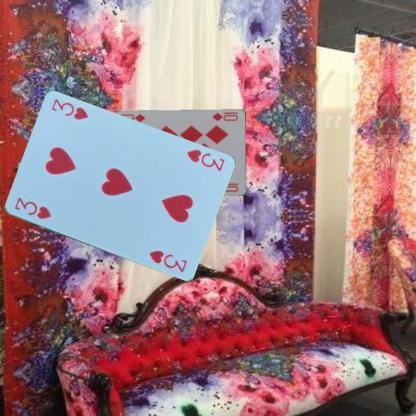10d: (209, 110, 238, 122)
3h: (183, 147, 226, 173), (12, 194, 52, 220)
